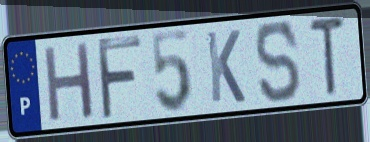5: (150, 27, 194, 116)
F: (94, 34, 144, 123)
H: (41, 39, 96, 126)
K: (204, 28, 248, 106)
S: (253, 19, 304, 107)
T: (307, 14, 348, 100)
